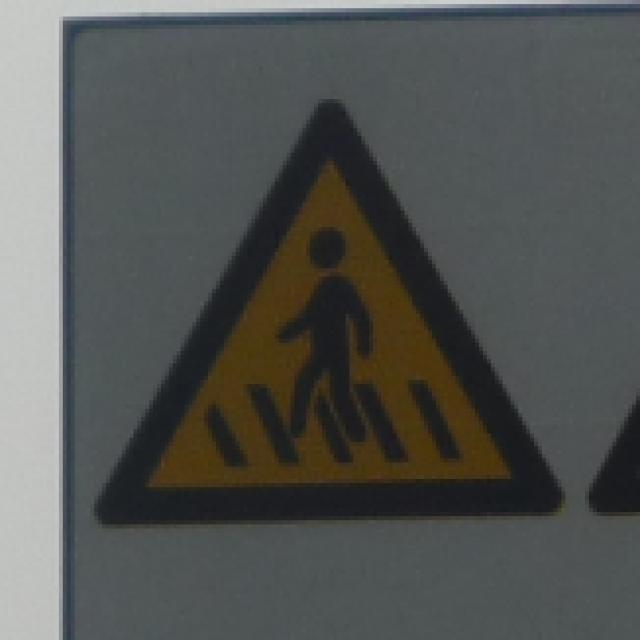Crossing: (90, 76, 573, 530)
